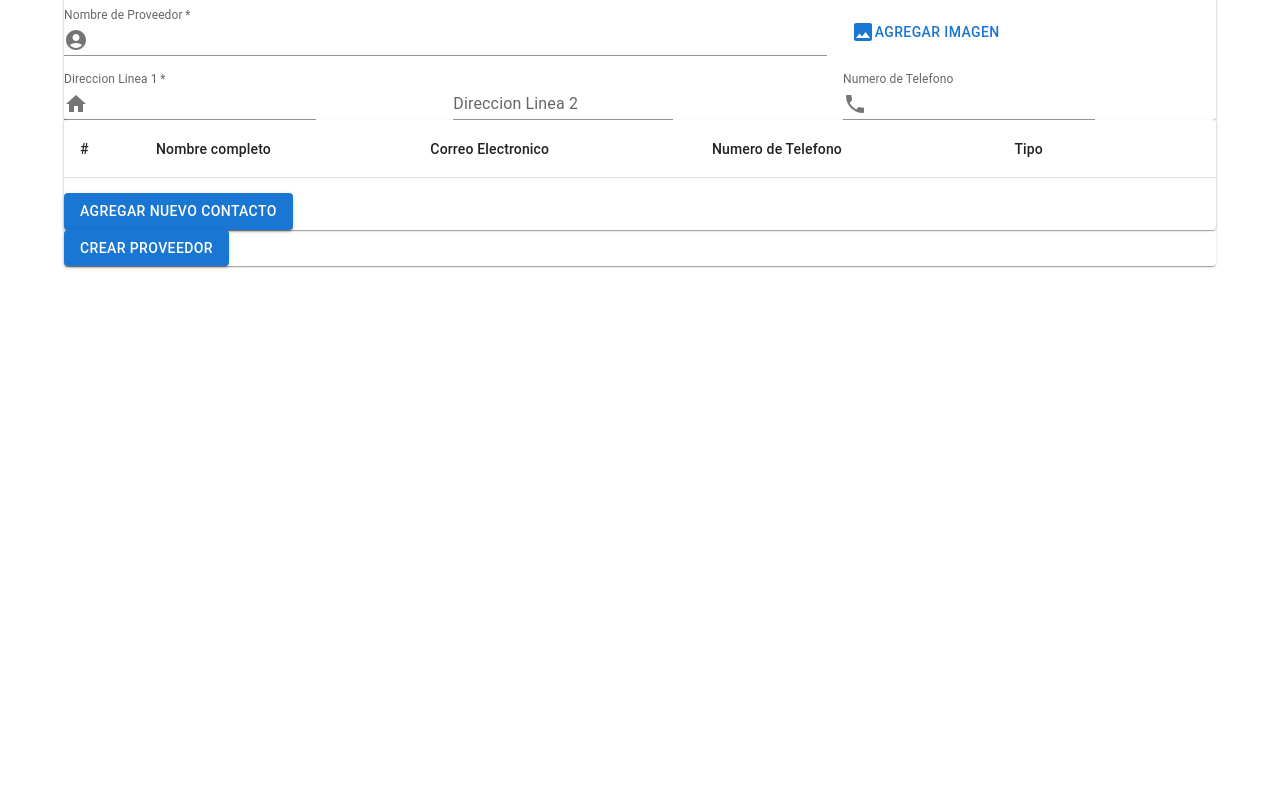
Test: SupplierEditableView › Should show contacts missing dialog when no contacts are added
Type "SomeRandomName" into the field labelled "Nombre de Proveedor *" at [461, 40], box [96,24,827,56]
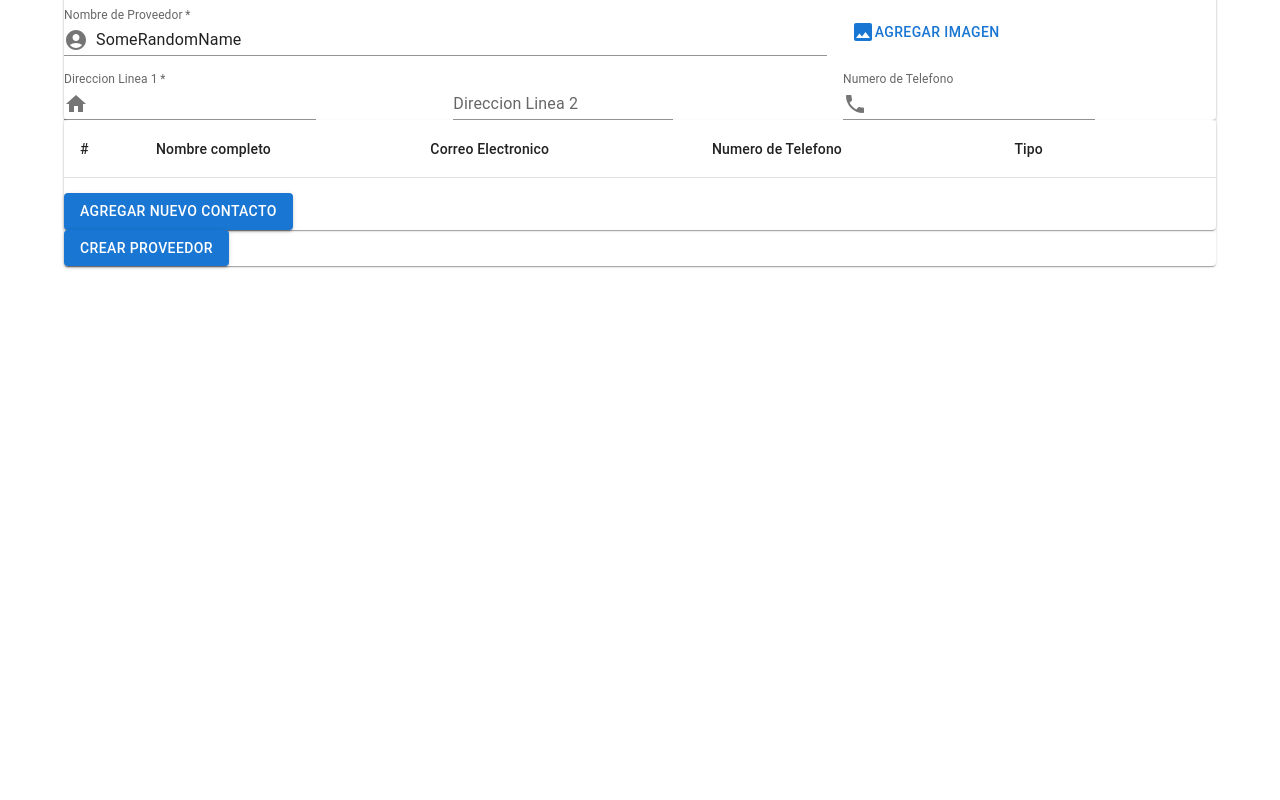
Type "SomeRandomPhoneNumber" into the field labelled "Numero de Telefono" at [985, 104], box [875,88,1095,120]
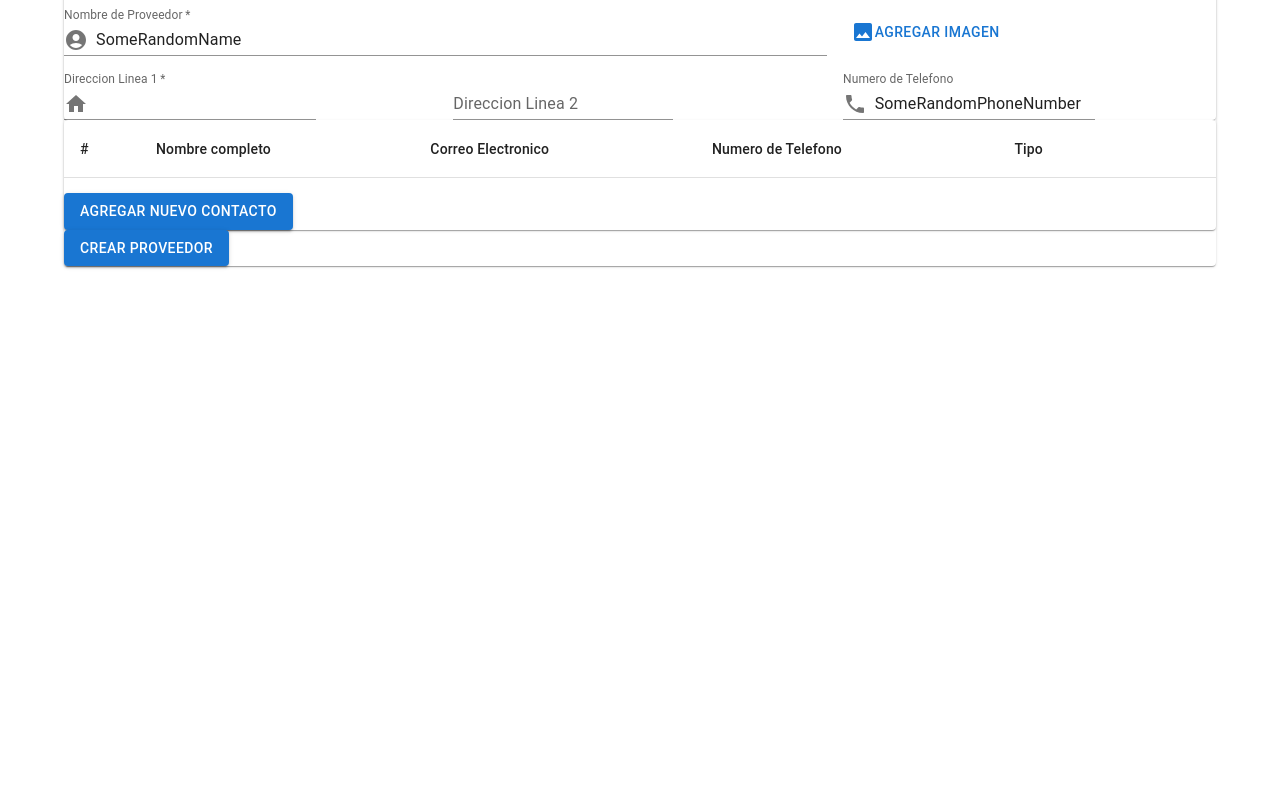
Click the button "Crear Proveedor" at [146, 248], box [64,230,229,266]
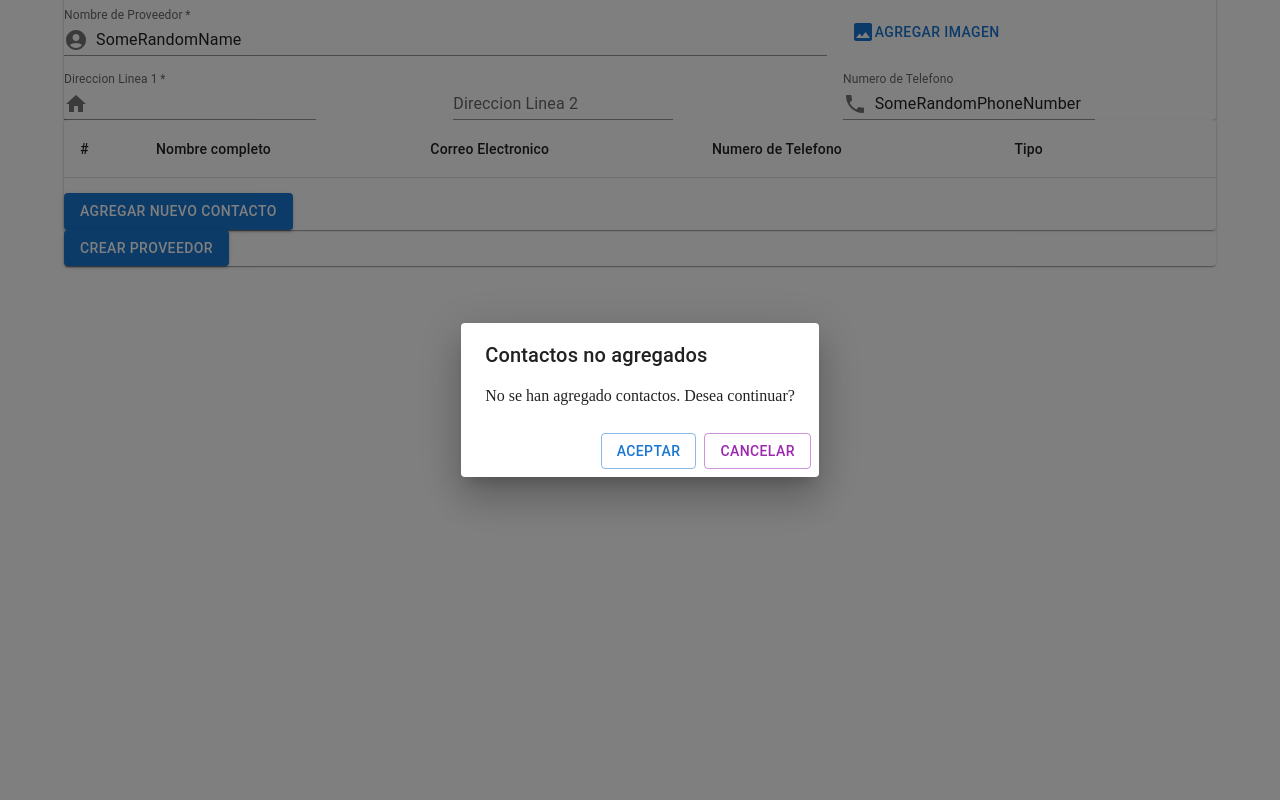
expect the heading "Contactos no agregados" is shown: met, box [485,343,708,367]
